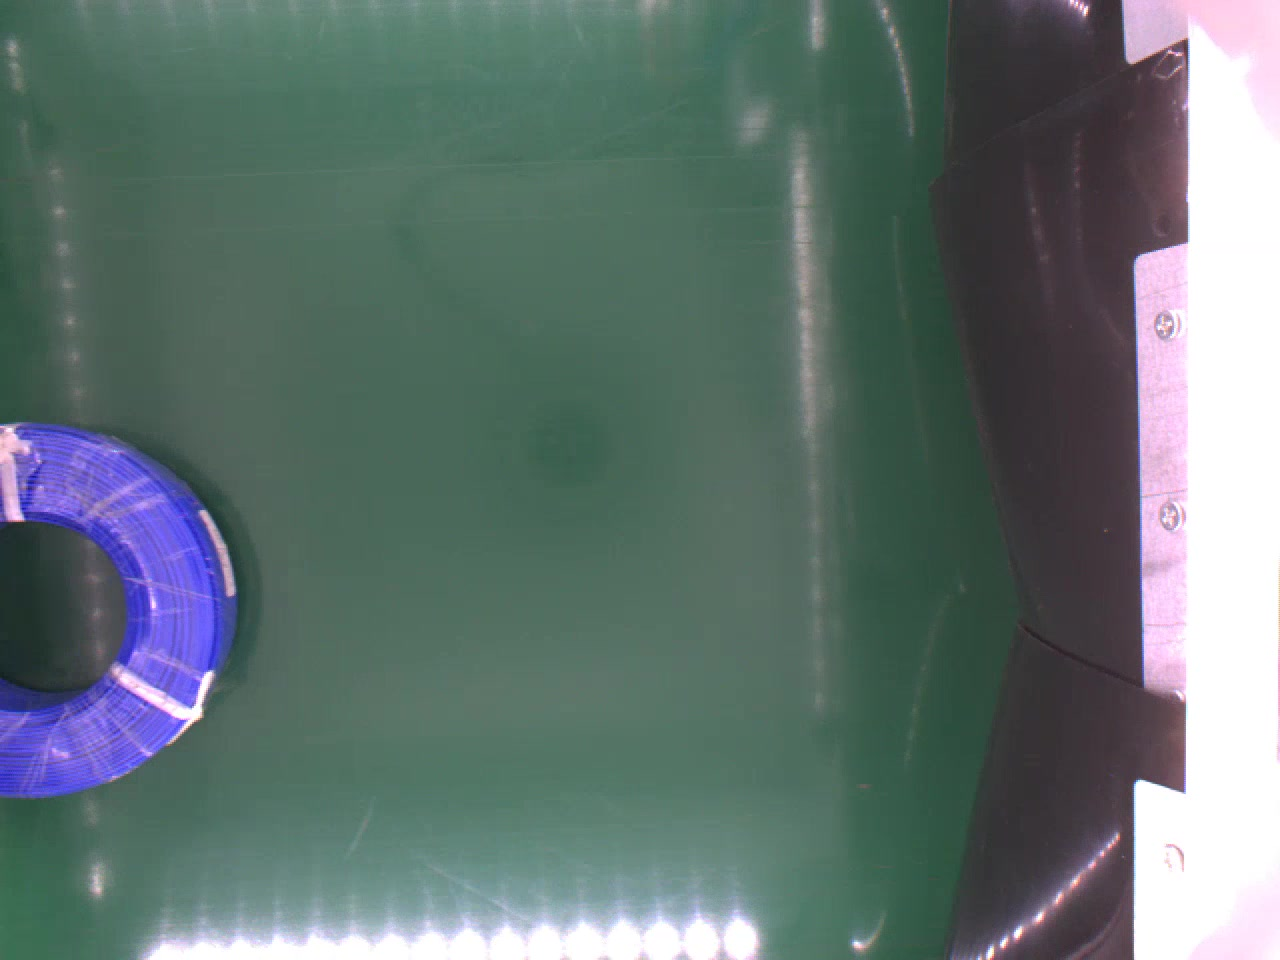blue: (0, 414, 242, 795)
